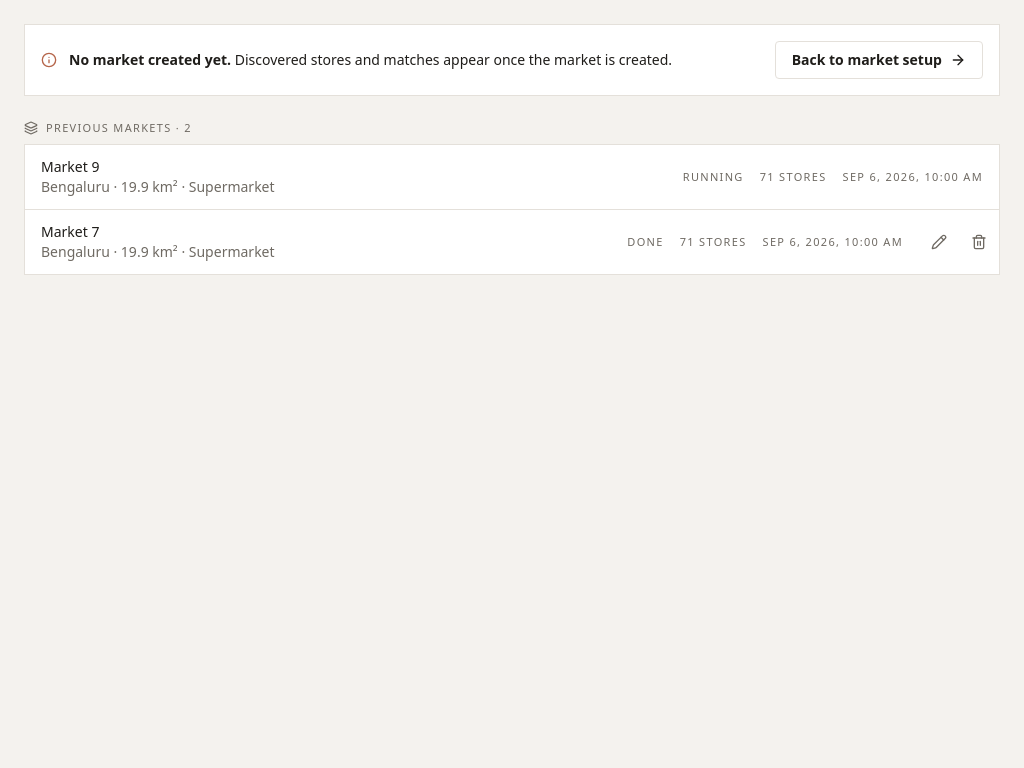
Test: a finished market can be deleted from its row, asked first; a running one cannot
This screenshot has width=1024, height=768.
Expected: the heading "Previous markets · 2" is shown, [24,120,192,135]
Click the button named "Delete Market 7".
click(979, 242)  # box [959,210,999,274]
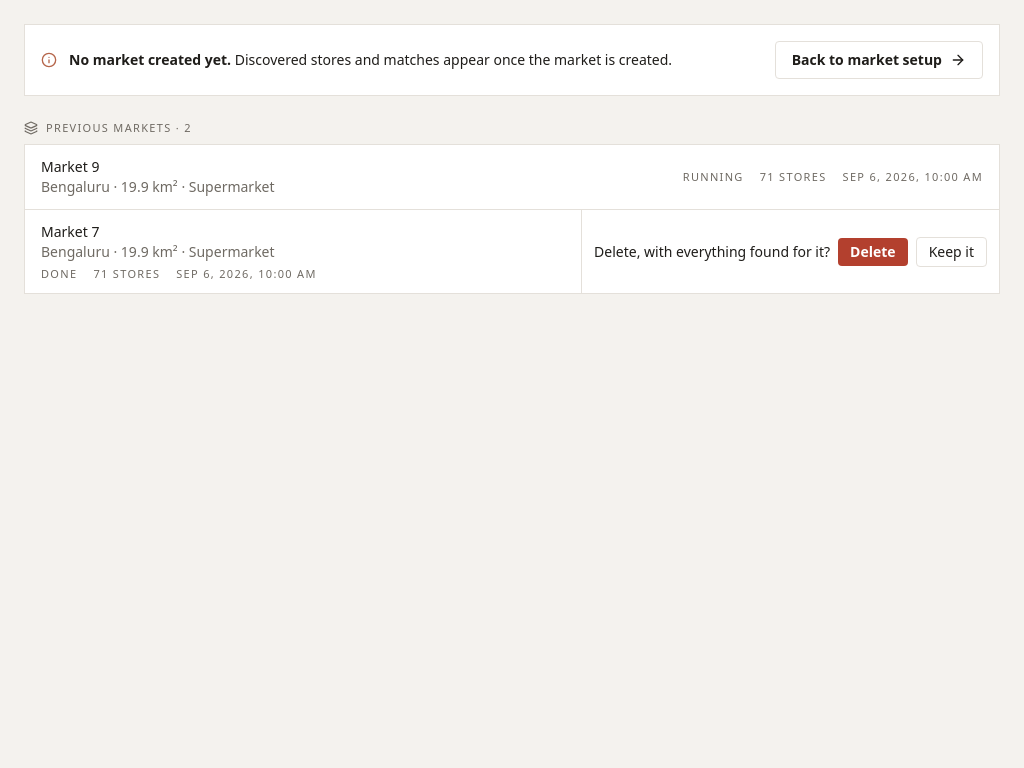
Click the button "Keep it".
click(951, 252)  # box [916,236,987,266]
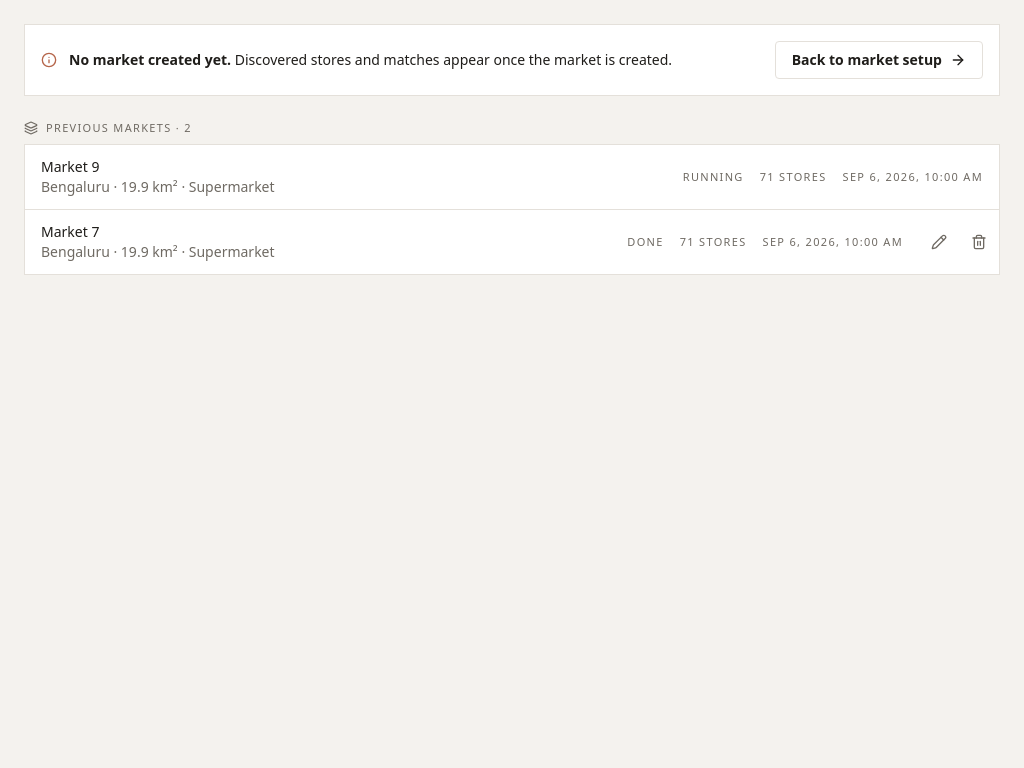
Result: the dialog is gone
Click the button named "Delete Market 7".
click(979, 242)  # box [959,210,999,274]
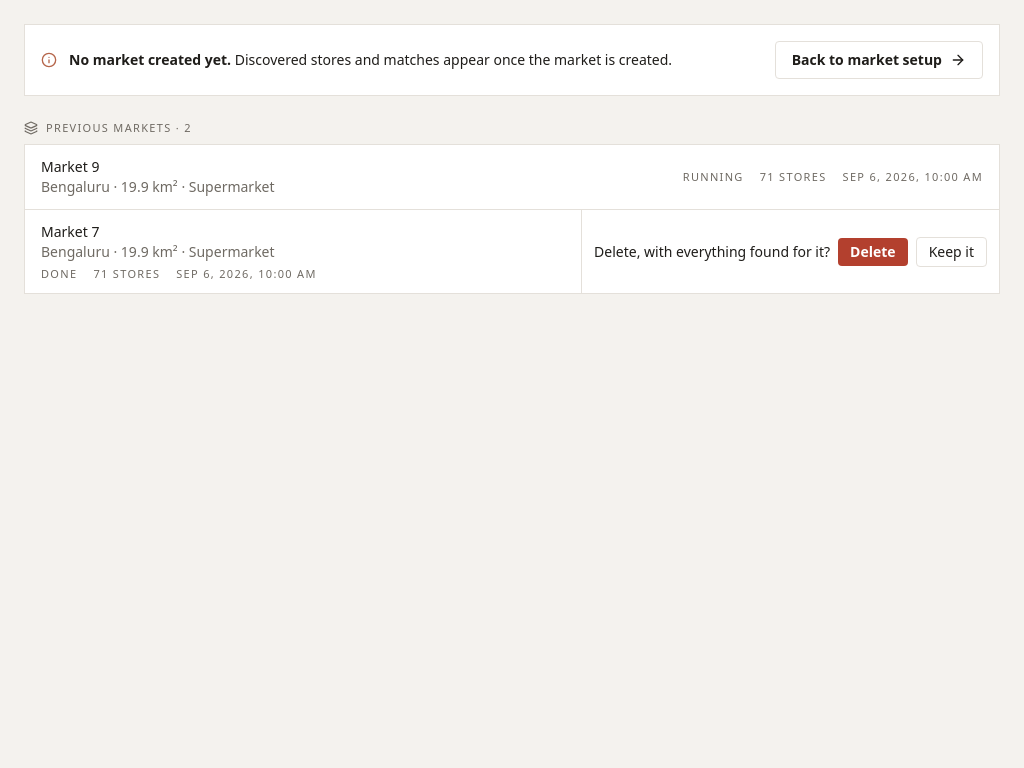
Click the button "Delete".
click(873, 252)  # box [838,238,908,266]
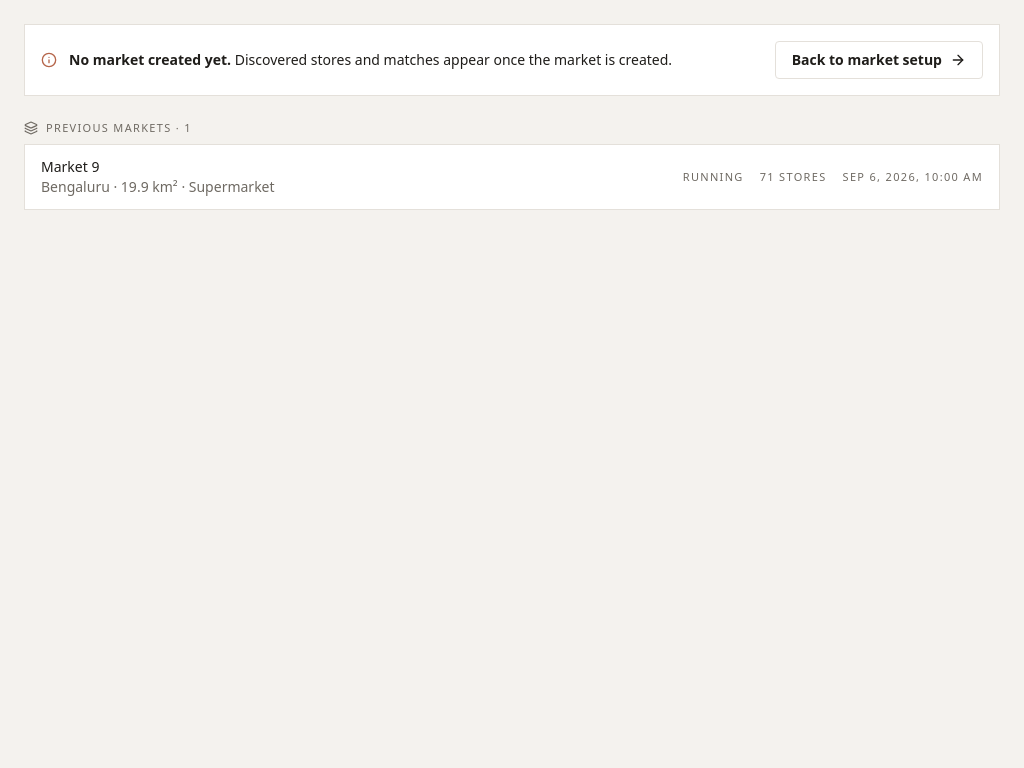
Result: the heading "Previous markets · 1" is shown at [24,120,192,135]
Result: the link "Market 7" is gone
